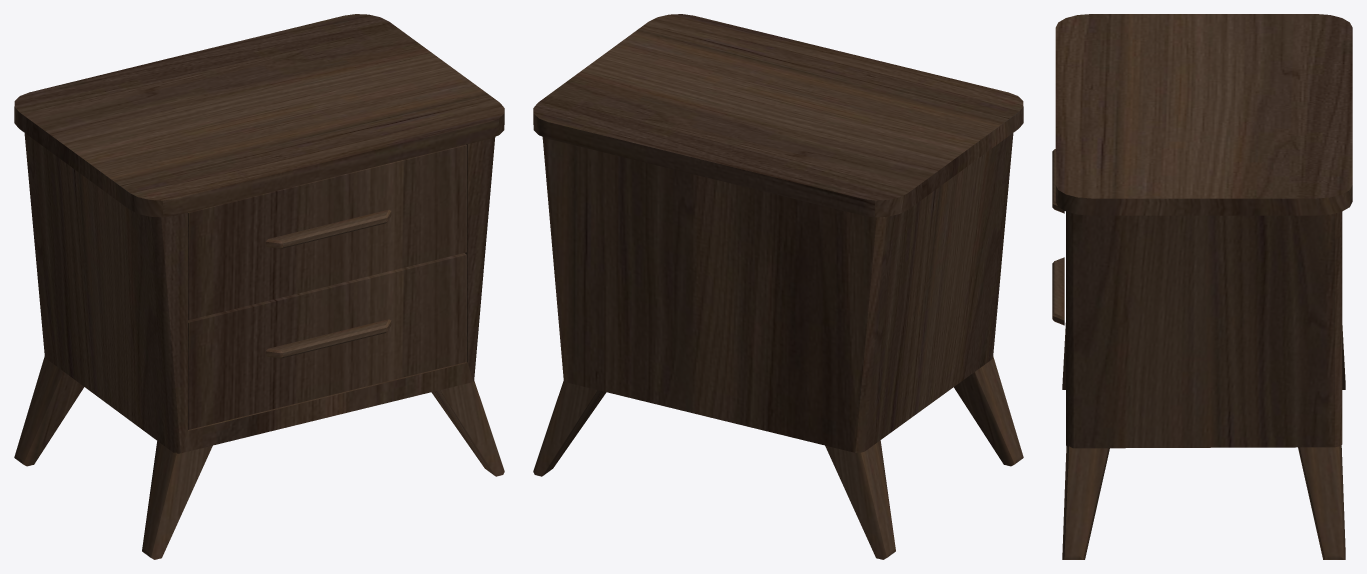
The model's file is comodino.fbx.
3 views of the same model, side by side, from view 1: azimuth 30°, elevation 25°; view 2: azimuth 150°, elevation 25°; view 3: azimuth 270°, elevation 25° (orthographic). The views are drawn at different scales.
Visible parts, largest first — view 1: polySurface2, pCube8, pCube7; view 2: polySurface2; view 3: polySurface2, pCube8.
Boxes of the visible parts, x1,y1,x2,y2 form: polySurface2: (14, 14, 504, 559); pCube8: (188, 253, 466, 429); pCube7: (188, 144, 466, 320); polySurface2: (533, 14, 1023, 559); polySurface2: (1055, 14, 1352, 559); pCube8: (1052, 257, 1064, 325).
Size of the model in its own units: 3.4 by 3.15 by 2.34.
